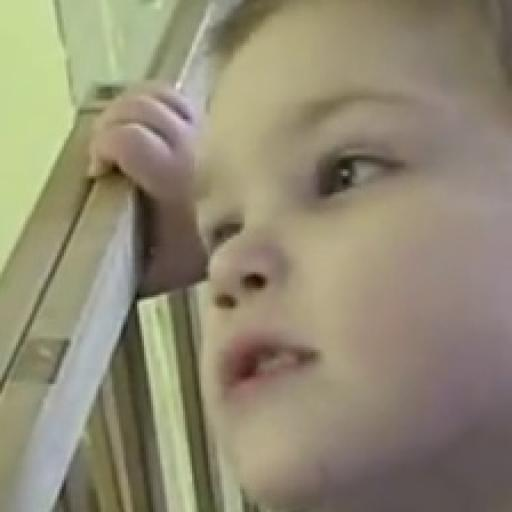Autism: (177, 22, 512, 512)
